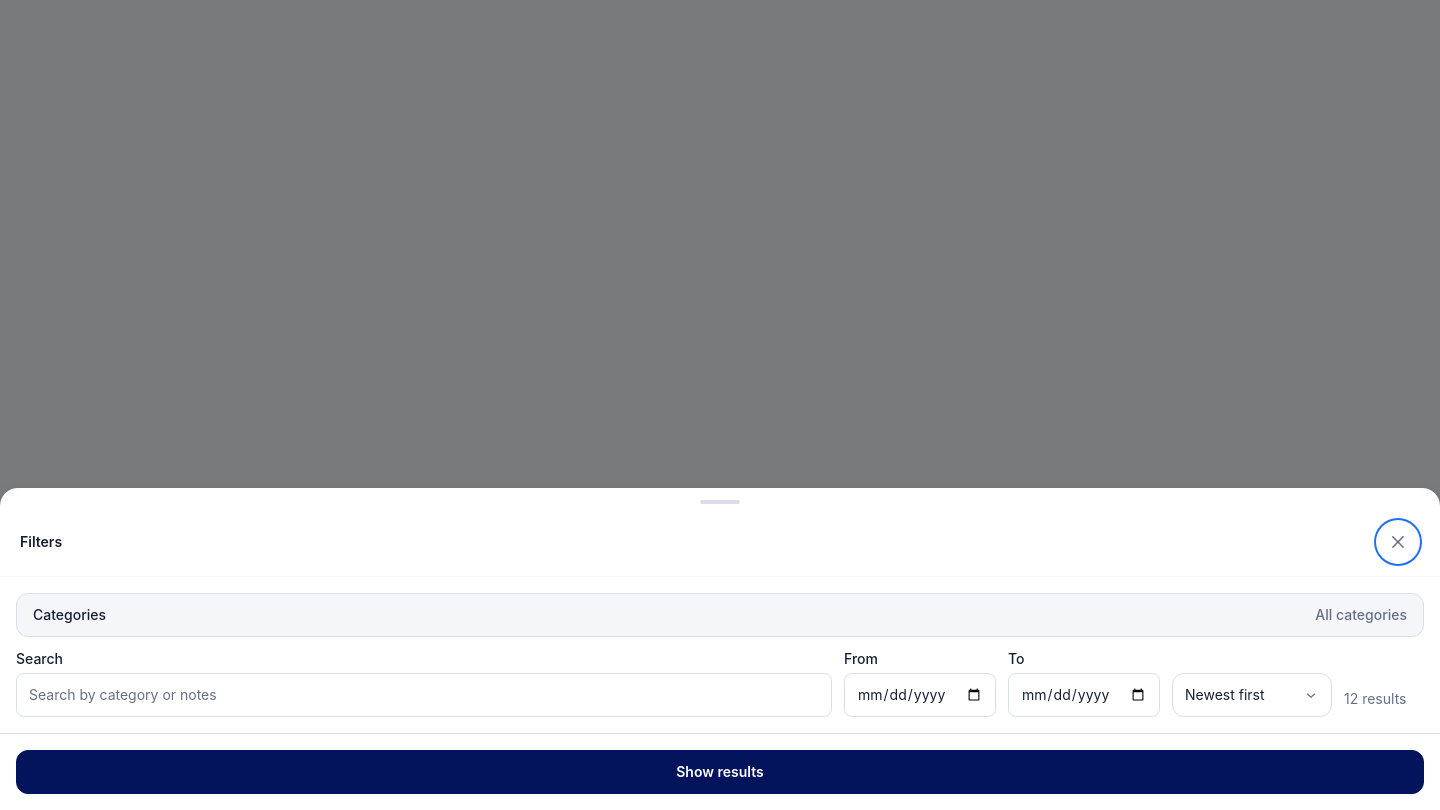
Test case: FilterSheet › shows "No categories available" when there are no available categories
Click the button "Categories All categories" at x=70, y=614, box [16,593,1424,637]
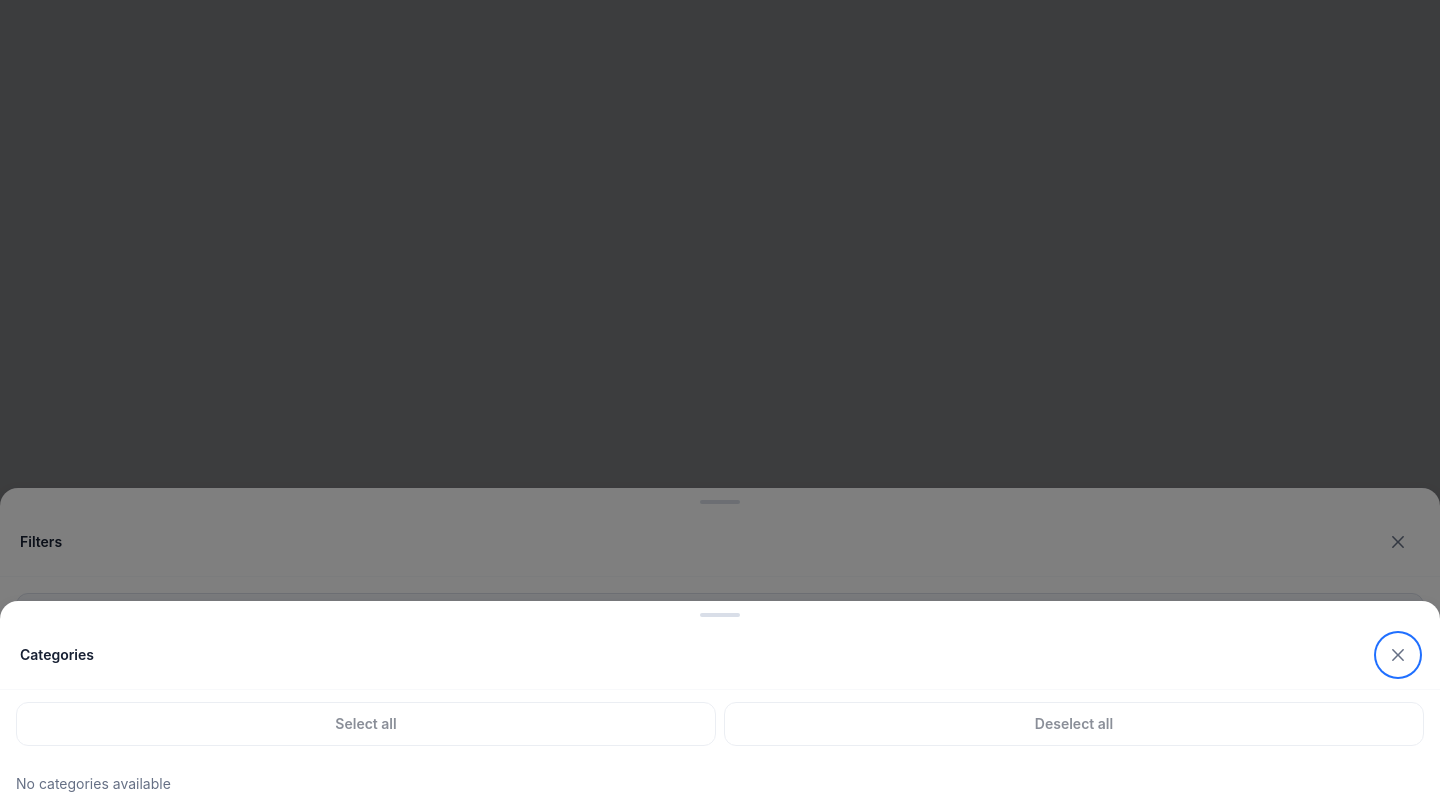
Now the text "No categories available" is shown, box [16,775,171,792]
